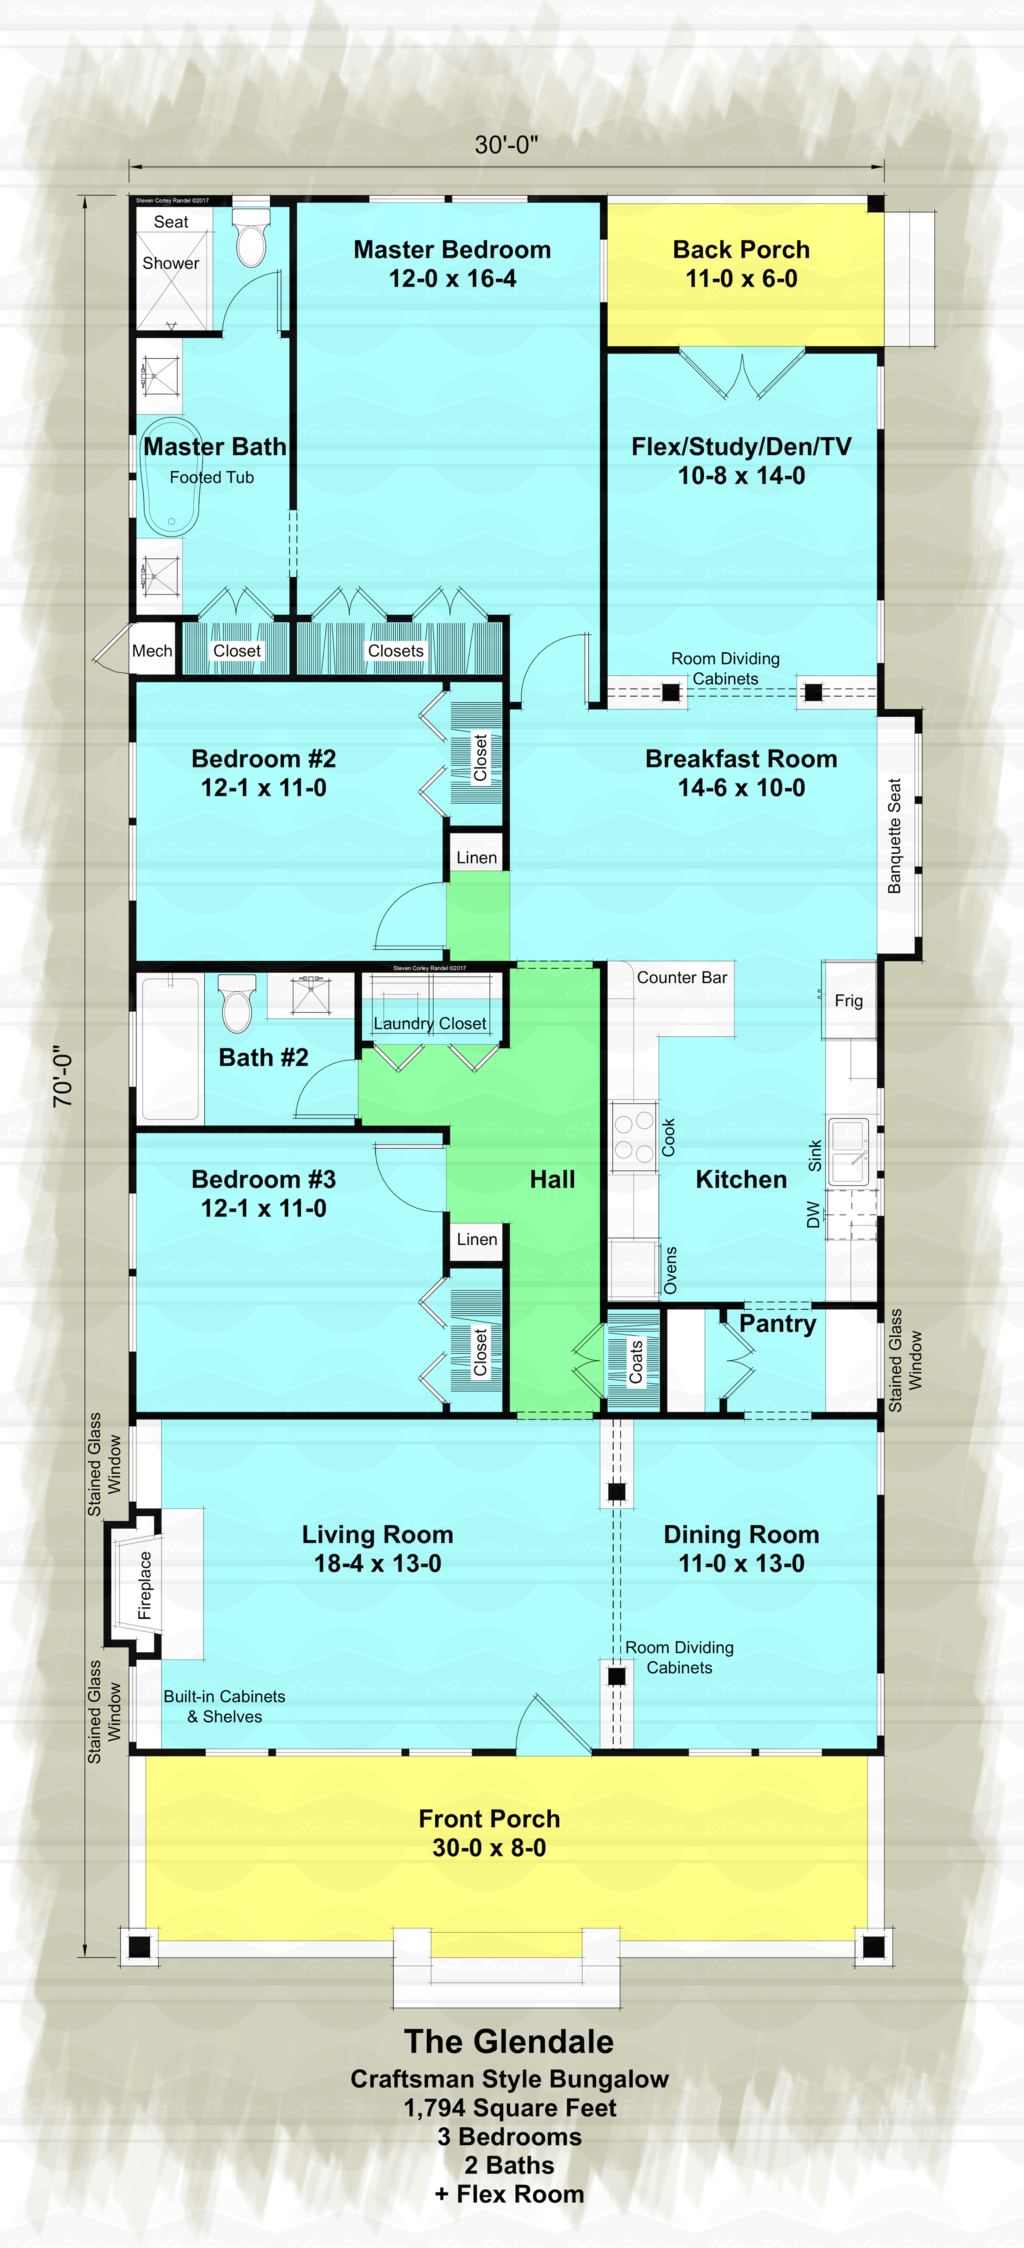door: (653, 331, 830, 417), (354, 852, 482, 951), (496, 616, 602, 720), (356, 1138, 470, 1229), (201, 262, 298, 354), (688, 1312, 766, 1424), (503, 1677, 610, 1758), (394, 563, 490, 627), (283, 1054, 363, 1125), (564, 1303, 620, 1404), (291, 572, 392, 627), (198, 586, 280, 634)
large_sink: (194, 958, 270, 1042), (209, 186, 287, 262)
tub: (108, 971, 219, 1135), (126, 411, 215, 565)
twin_sink: (805, 1102, 896, 1219)
window: (118, 725, 153, 910), (122, 1186, 146, 1349), (359, 186, 531, 209)
